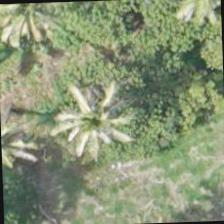Kelapa_Sawit: (51, 75, 144, 168), (0, 1, 80, 55)
